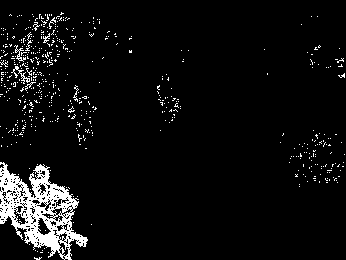person: (28, 162, 89, 260), (1, 160, 52, 260)
